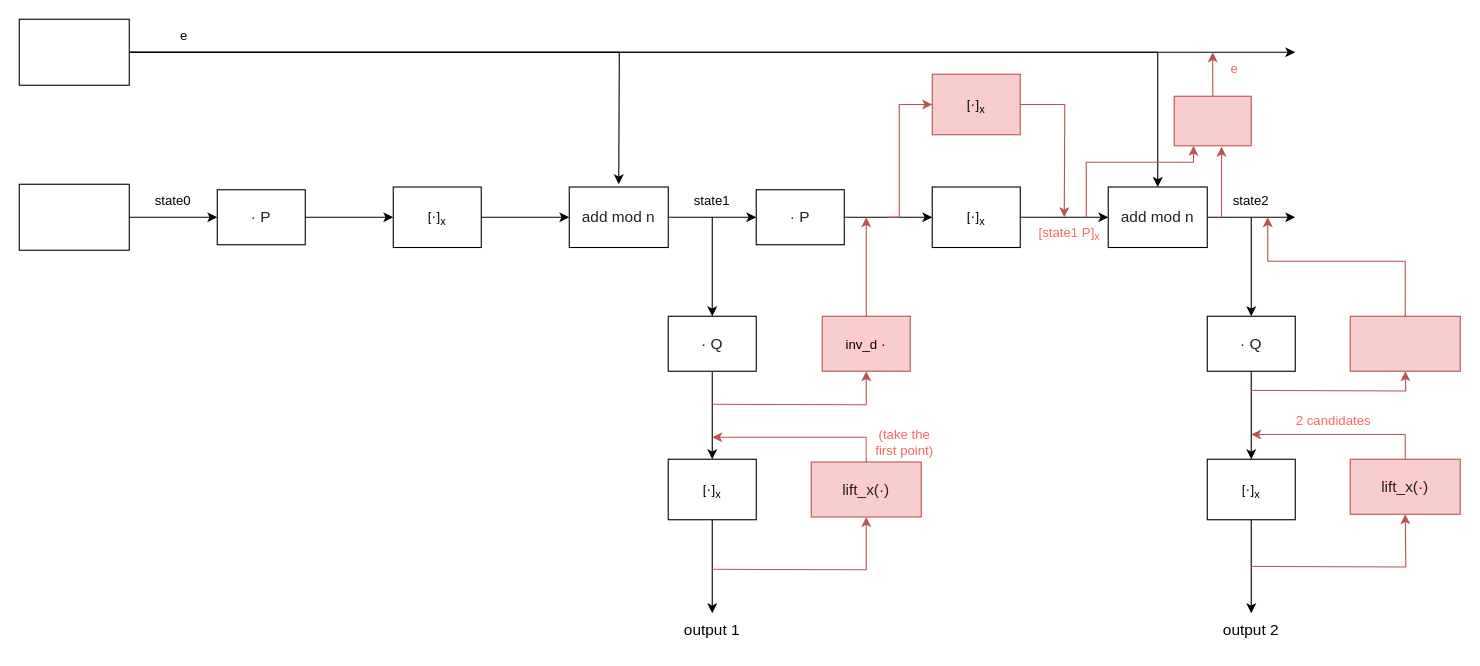
This 1480x666 diagram has some shape labels left out. The shapes that lost their labels are listed below. From the top down, each one's centre as x and y in pixels, then its label:
At [73,51]: "Random number in [0, 2 20 )".
At [1212,120]: "subtract".
At [73,216]: "Random number in [1, n)".
At [1404,343]: "log Q ( ·)".
